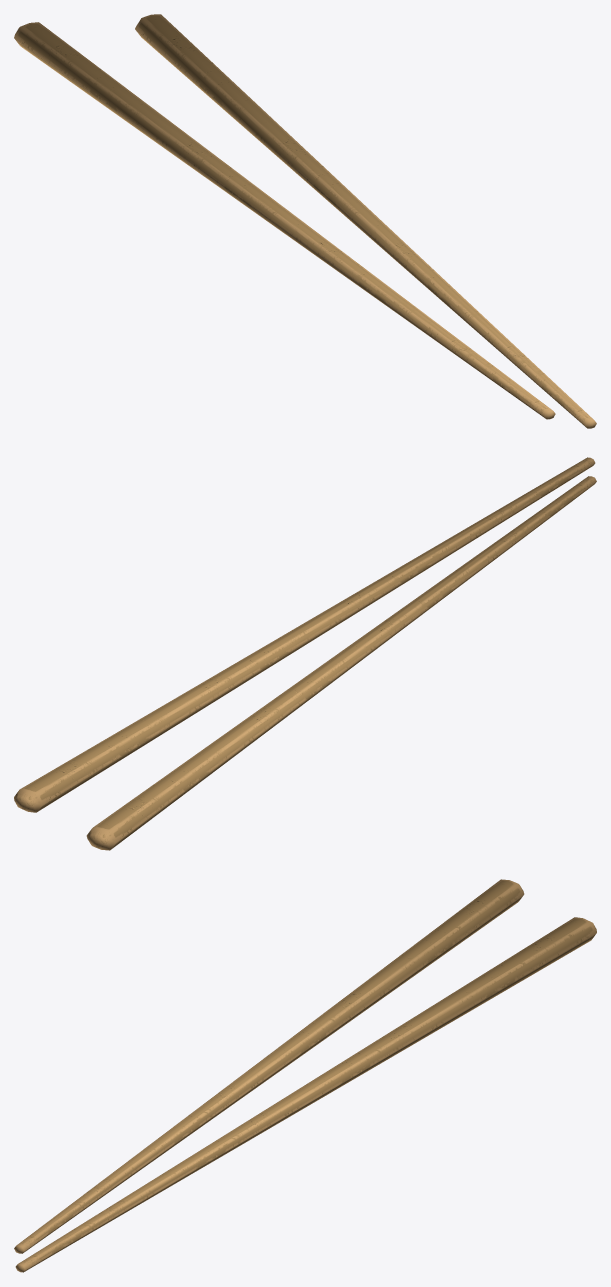
File: jeotgarak.glb
3 views of the same model, one above another, from view 1: azimuth 30°, elevation 25°; view 2: azimuth 150°, elevation 25°; view 3: azimuth 330°, elevation 25° (orthographic). The views are drawn at different scales.
Parts seen in each view (by area): view 1: SM_ Spoon_And_Chopsticks_M_ Spoon_and_Chopsticks_0.005, SM_ Spoon_And_Chopsticks_M_ Spoon_and_Chopsticks_0.008; view 2: SM_ Spoon_And_Chopsticks_M_ Spoon_and_Chopsticks_0.008, SM_ Spoon_And_Chopsticks_M_ Spoon_and_Chopsticks_0.005; view 3: SM_ Spoon_And_Chopsticks_M_ Spoon_and_Chopsticks_0.008, SM_ Spoon_And_Chopsticks_M_ Spoon_and_Chopsticks_0.005.
Part boxes in pixels (<box>): SM_ Spoon_And_Chopsticks_M_ Spoon_and_Chopsticks_0.005: <box>14,22,552,418</box>; SM_ Spoon_And_Chopsticks_M_ Spoon_and_Chopsticks_0.008: <box>135,14,593,427</box>; SM_ Spoon_And_Chopsticks_M_ Spoon_and_Chopsticks_0.008: <box>20,457,595,812</box>; SM_ Spoon_And_Chopsticks_M_ Spoon_and_Chopsticks_0.005: <box>93,476,596,849</box>; SM_ Spoon_And_Chopsticks_M_ Spoon_and_Chopsticks_0.008: <box>18,917,596,1272</box>; SM_ Spoon_And_Chopsticks_M_ Spoon_and_Chopsticks_0.005: <box>16,879,524,1252</box>.
Size of the model in its own units: 0.0278 by 0.00457 by 0.2011.
1 material, 1 textured.
